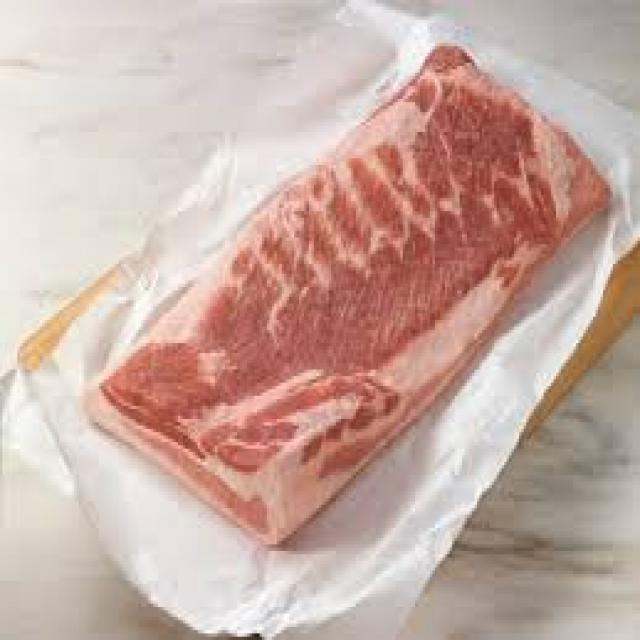pork: (89, 46, 613, 546)
